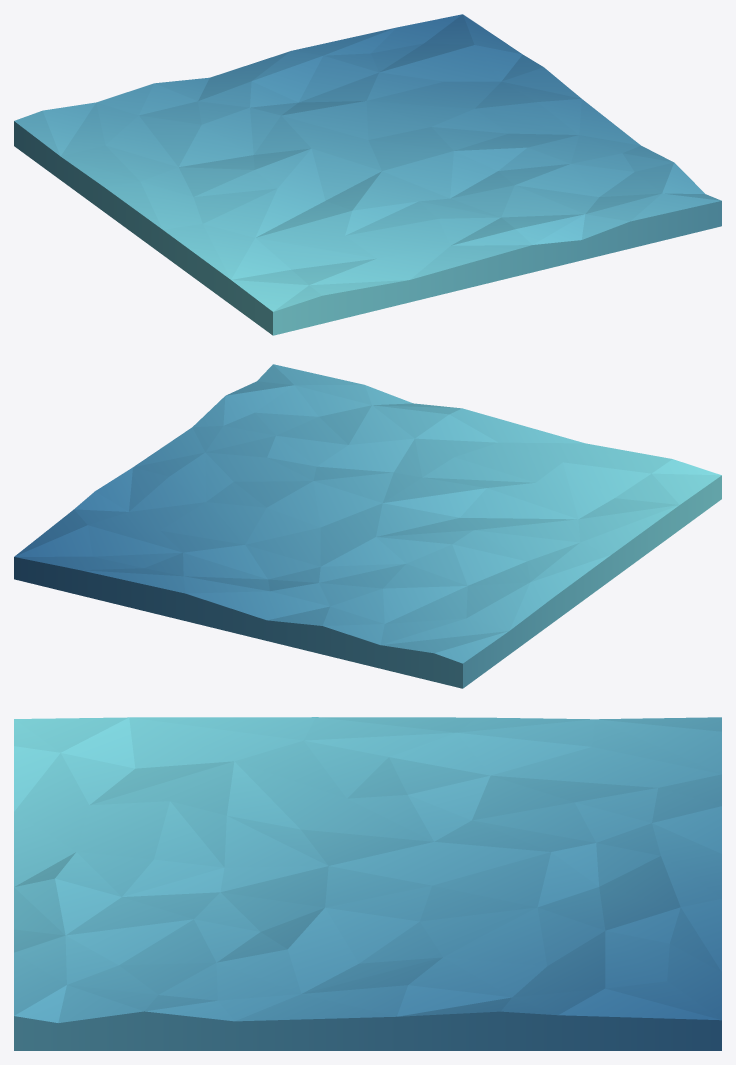
Rendered from water-location-ship-island.glb.
The picture shows the model from 3 angles, top to bottom: view 1: azimuth 30°, elevation 25°; view 2: azimuth 150°, elevation 25°; view 3: azimuth 270°, elevation 25°; orthographic projection. The views are drawn at different scales.
Parts seen in each view (by area): view 1: water location ship Island; view 2: water location ship Island; view 3: water location ship Island.
Boxes of the visible parts, x1,y1,x2,y2 form: water location ship Island: (14,14,721,335); water location ship Island: (14,364,721,688); water location ship Island: (14,717,721,1050).
Size of the model in its own units: 44 by 3.07 by 44.
Materials: 1 (1 with a texture image).
